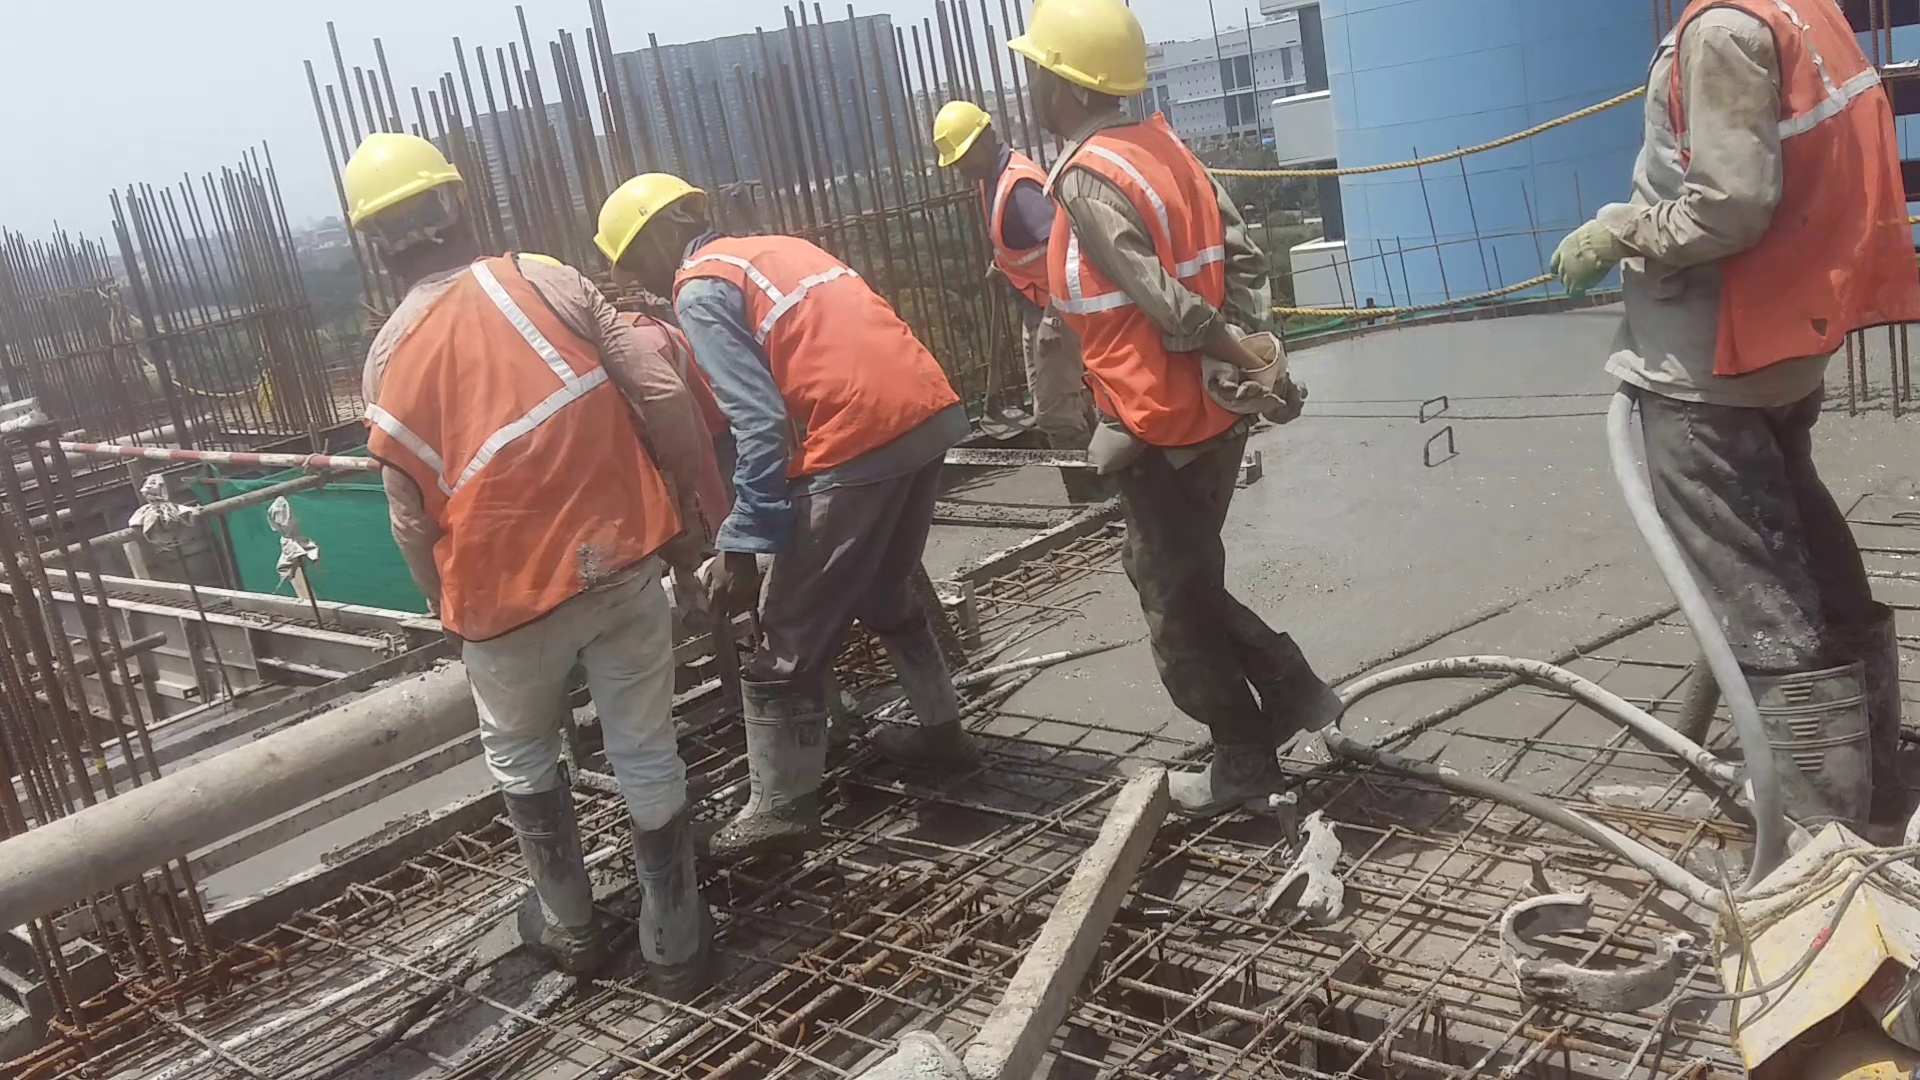SAFE: (338, 121, 591, 622), (593, 165, 960, 498), (1014, 3, 1242, 509)
